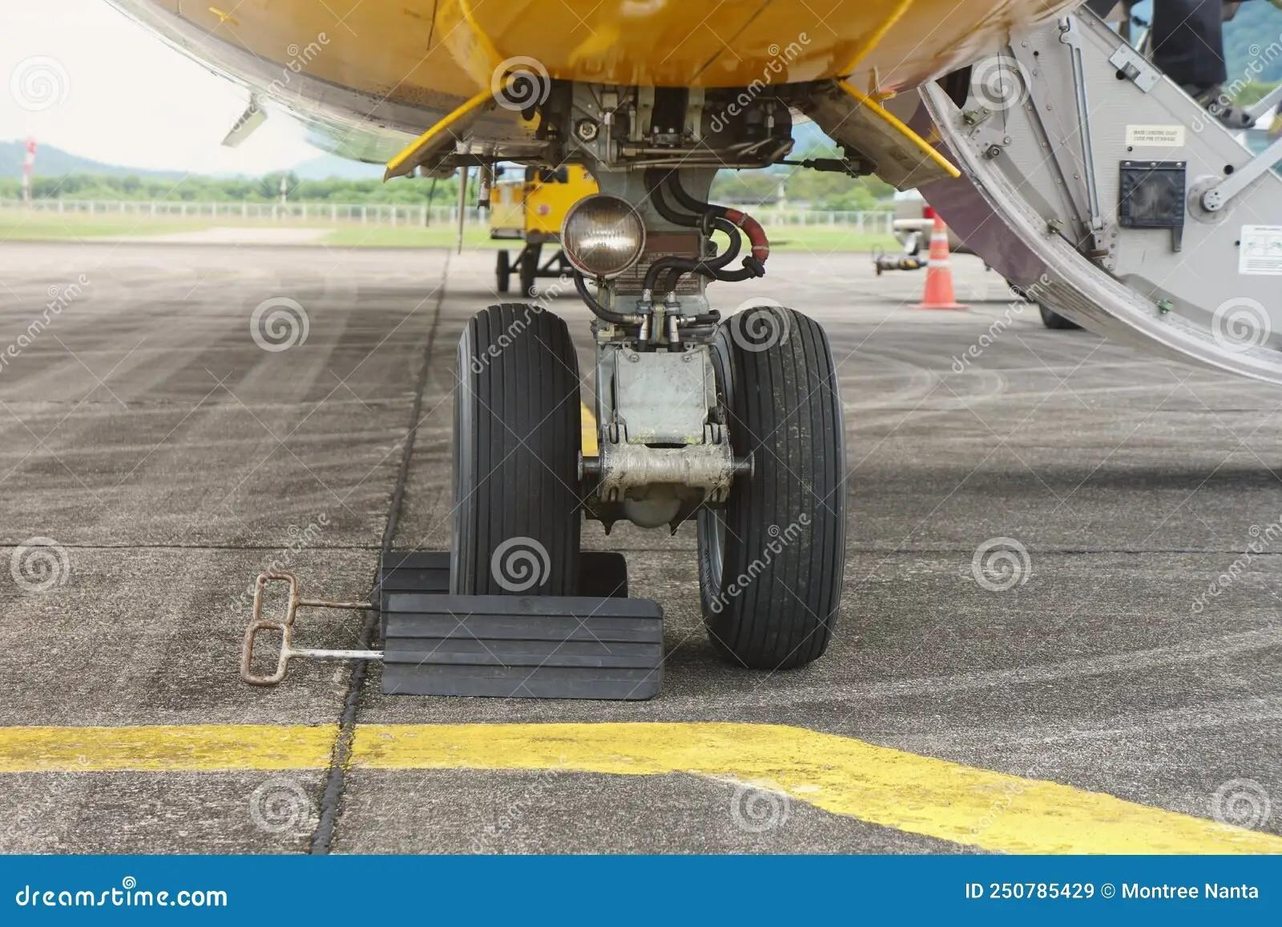chock: (378, 595, 669, 696), (370, 546, 633, 598)
wheel: (693, 308, 841, 663), (453, 300, 585, 594)
